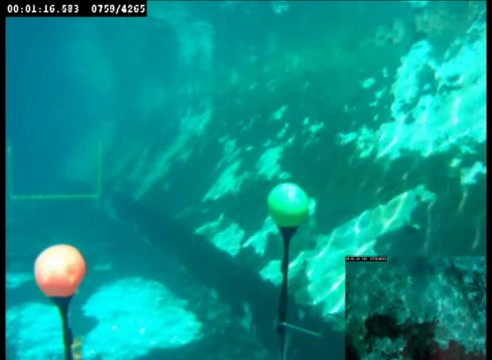buoy_green: (265, 182, 309, 234)
buoy_red: (33, 242, 91, 310)
channel: (5, 142, 107, 201)
